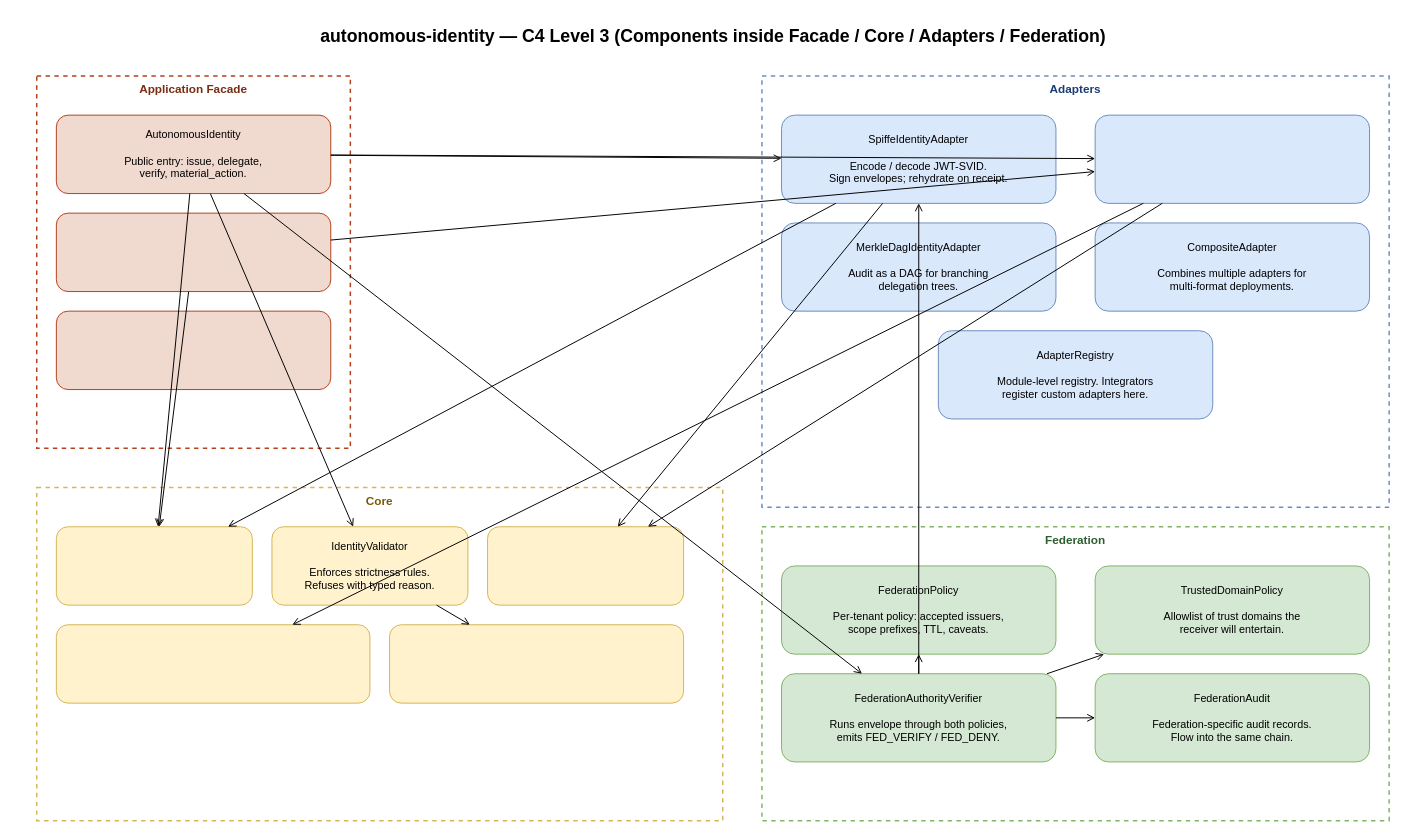
The diagram is 1425 pixels wide and 838 high, and some of its shapes have lost their labels. Each missing label, with the centre of its shape:
DelegationChain Walks lineage; computes effective scopes by intersection.: point 193,252
Hashing SHA-256-based commitment helpers. Used by audit + identity.: point 585,565
IdentityEnvelope Frozen dataclass — the atomic unit. Eight properties.: point 153,565
MerkleChainIdentityAdapter Audit log as hash-linked chain. Default audit shape.: point 1232,158
RuntimeConfig Loaded at process start. Strictness, audit backend, defaults.: point 193,350
ScopeConvention Optional naming-convention checker.: point 536,663
Serialise / Deserialise Canonical JSON for signing & storage.: point 212,663
